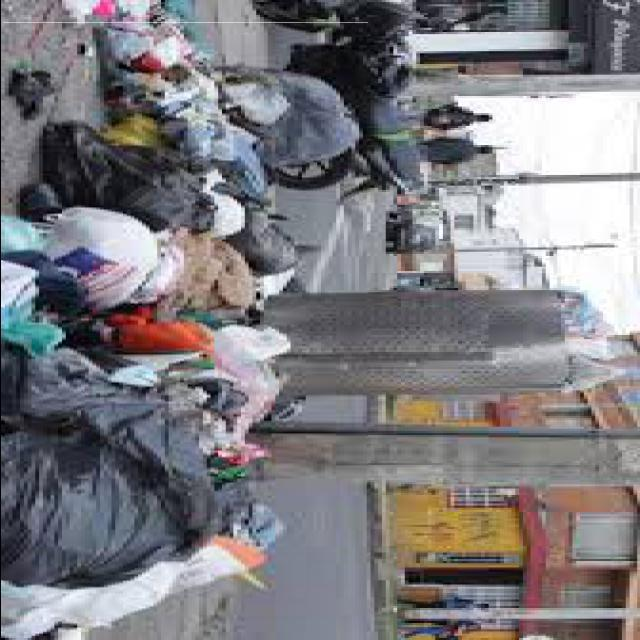Trashbag: (0, 428, 235, 599), (38, 114, 217, 233), (224, 64, 361, 170), (236, 204, 296, 276)
